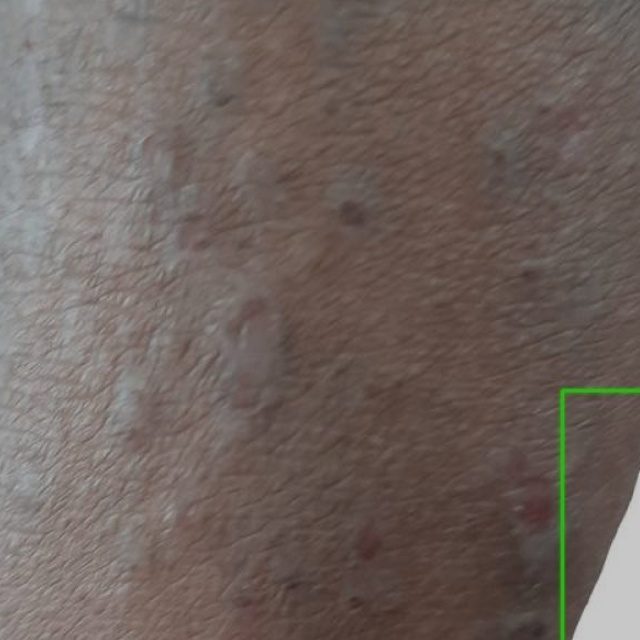Atopic Dermatitis: (562, 390, 639, 639)
